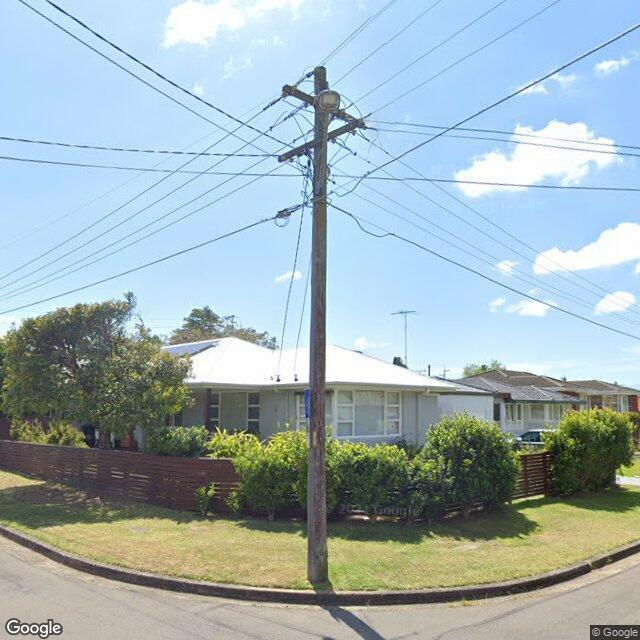crossarm: (282, 83, 364, 129), (278, 119, 363, 162)
streetlight: (311, 88, 341, 166)
timber-pole: (306, 67, 328, 583)
